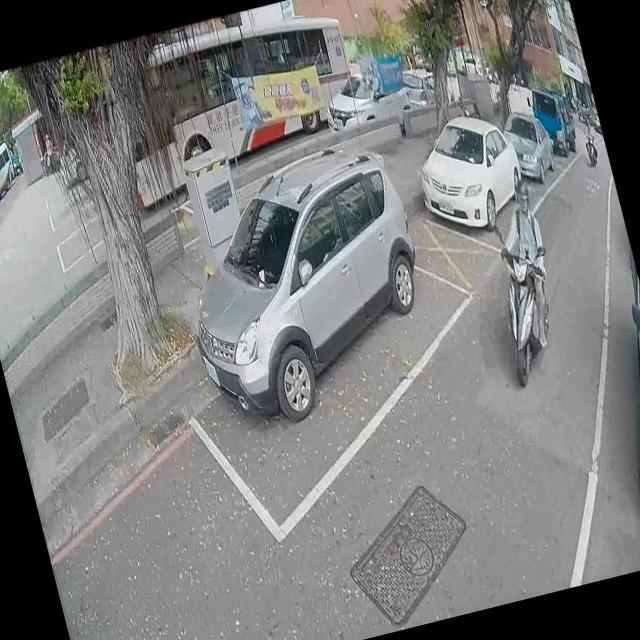person: (480, 175, 568, 355), (37, 128, 59, 174), (579, 118, 597, 152)
